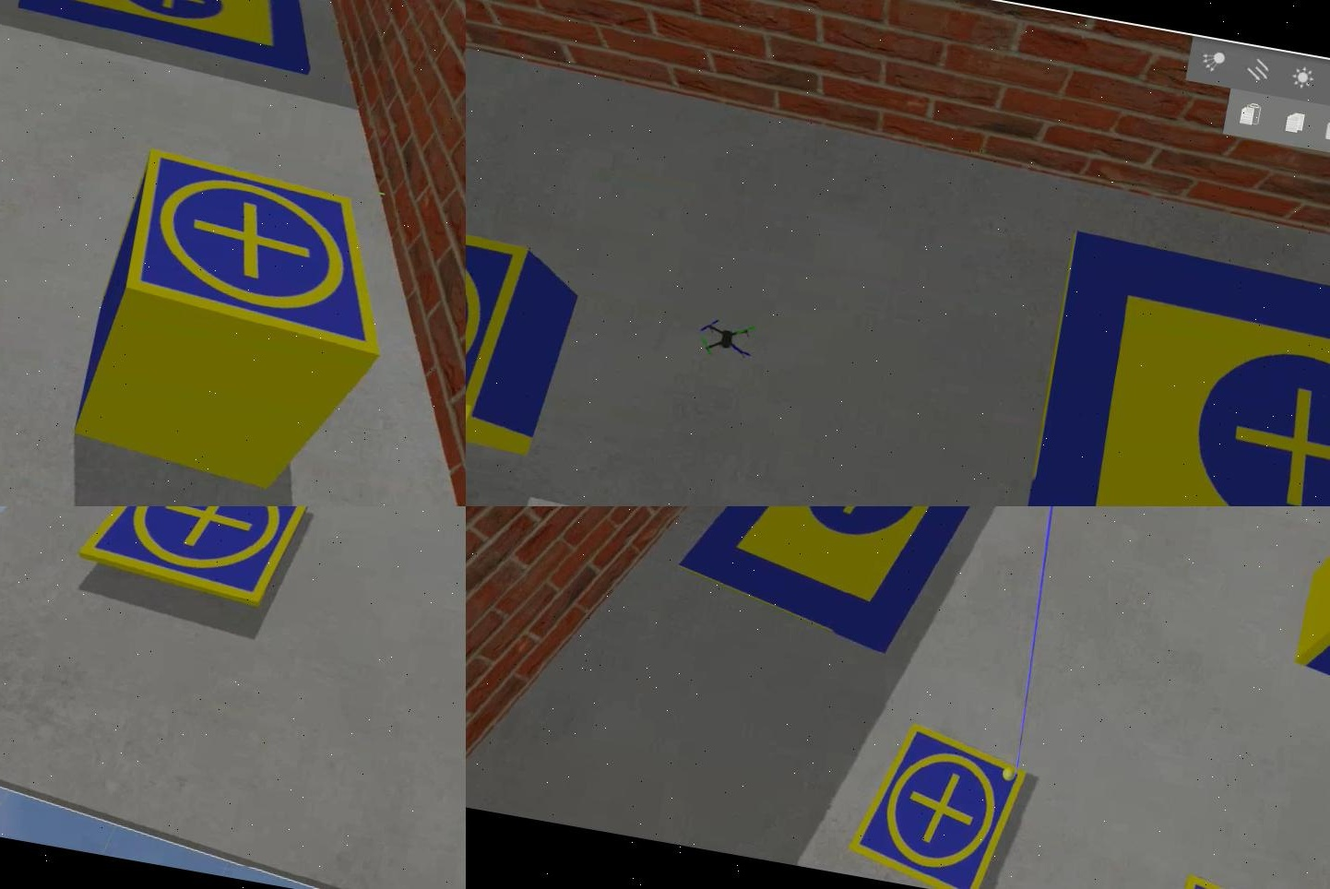large_base: (1015, 229, 1328, 506), (667, 506, 1027, 672), (10, 1, 326, 77)
small_base: (118, 146, 410, 358), (841, 716, 1030, 889), (72, 506, 317, 617), (464, 202, 528, 443), (1170, 868, 1328, 889)
